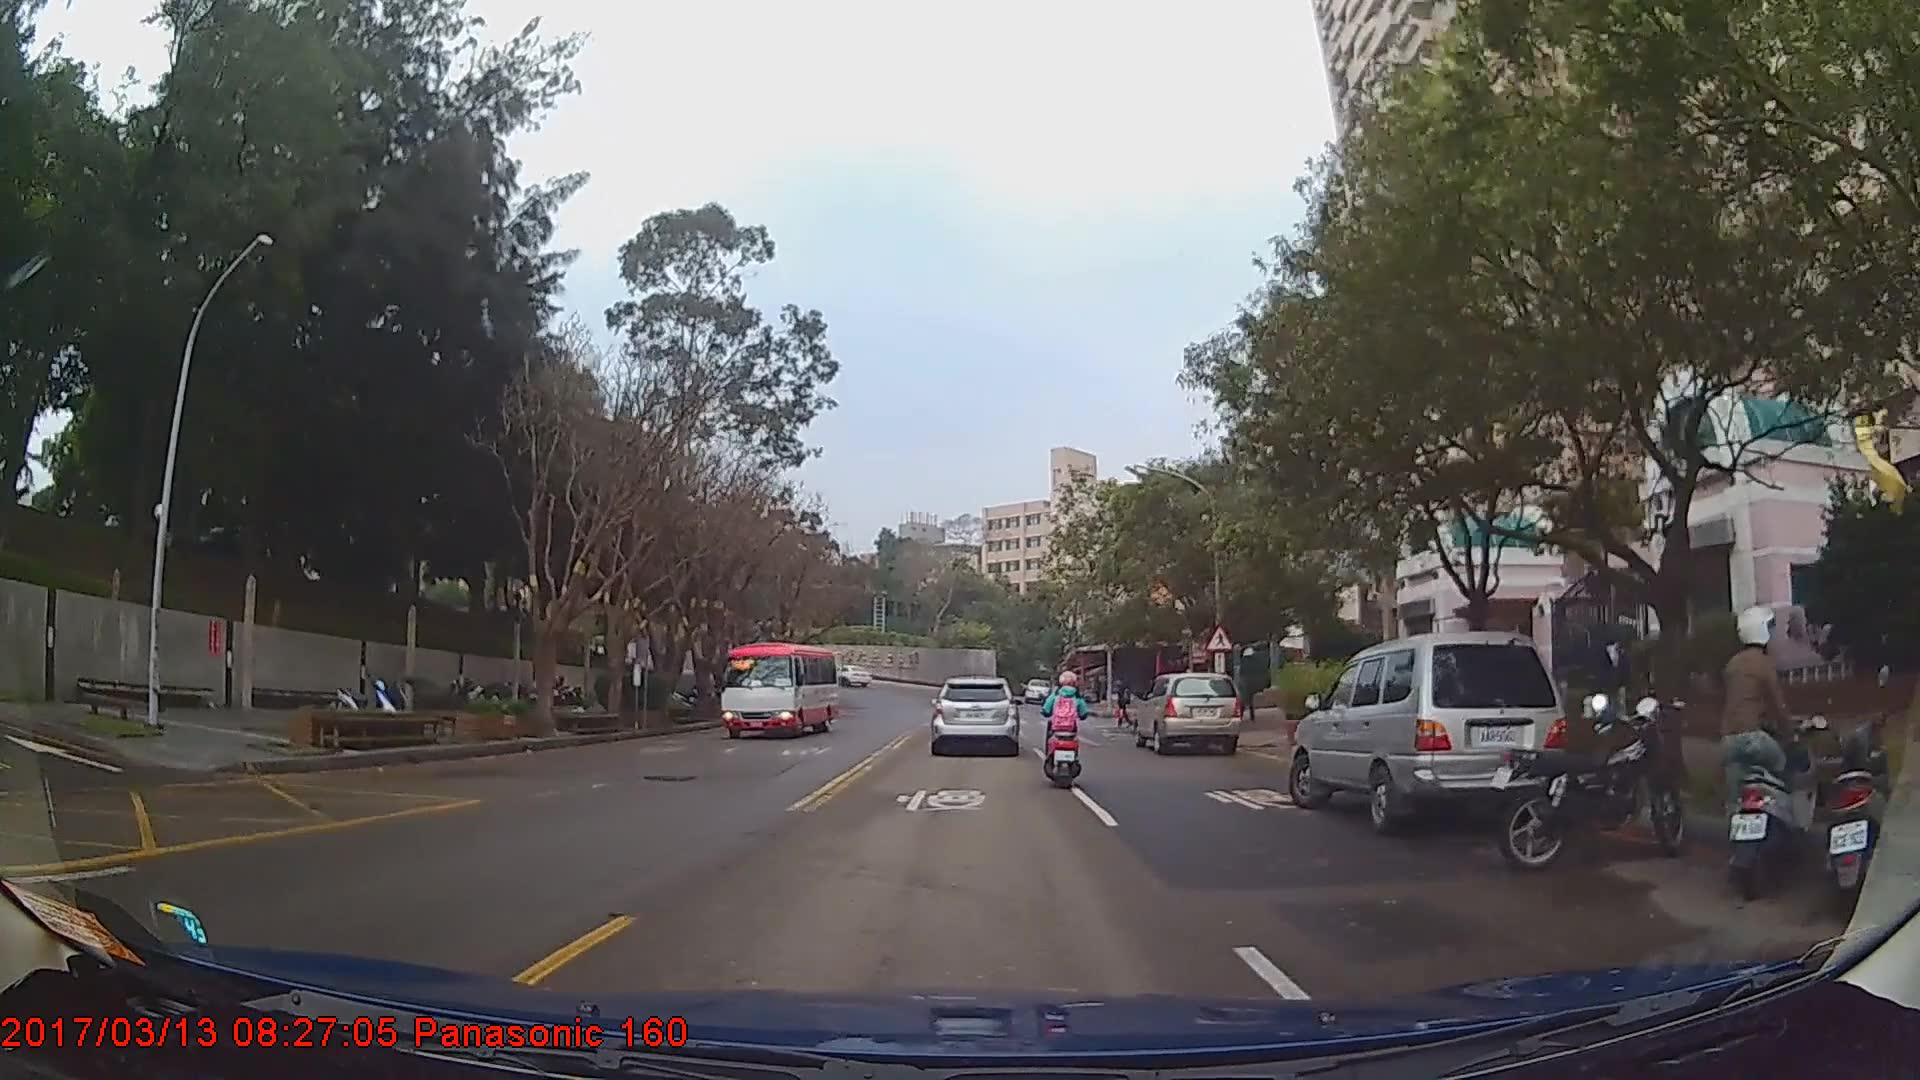pedestrian: (1113, 676, 1137, 734)
rider: (1037, 667, 1092, 797)
vehicle: (1291, 626, 1577, 836), (718, 639, 837, 740), (1135, 673, 1243, 756), (929, 675, 1021, 757), (826, 661, 869, 688)
